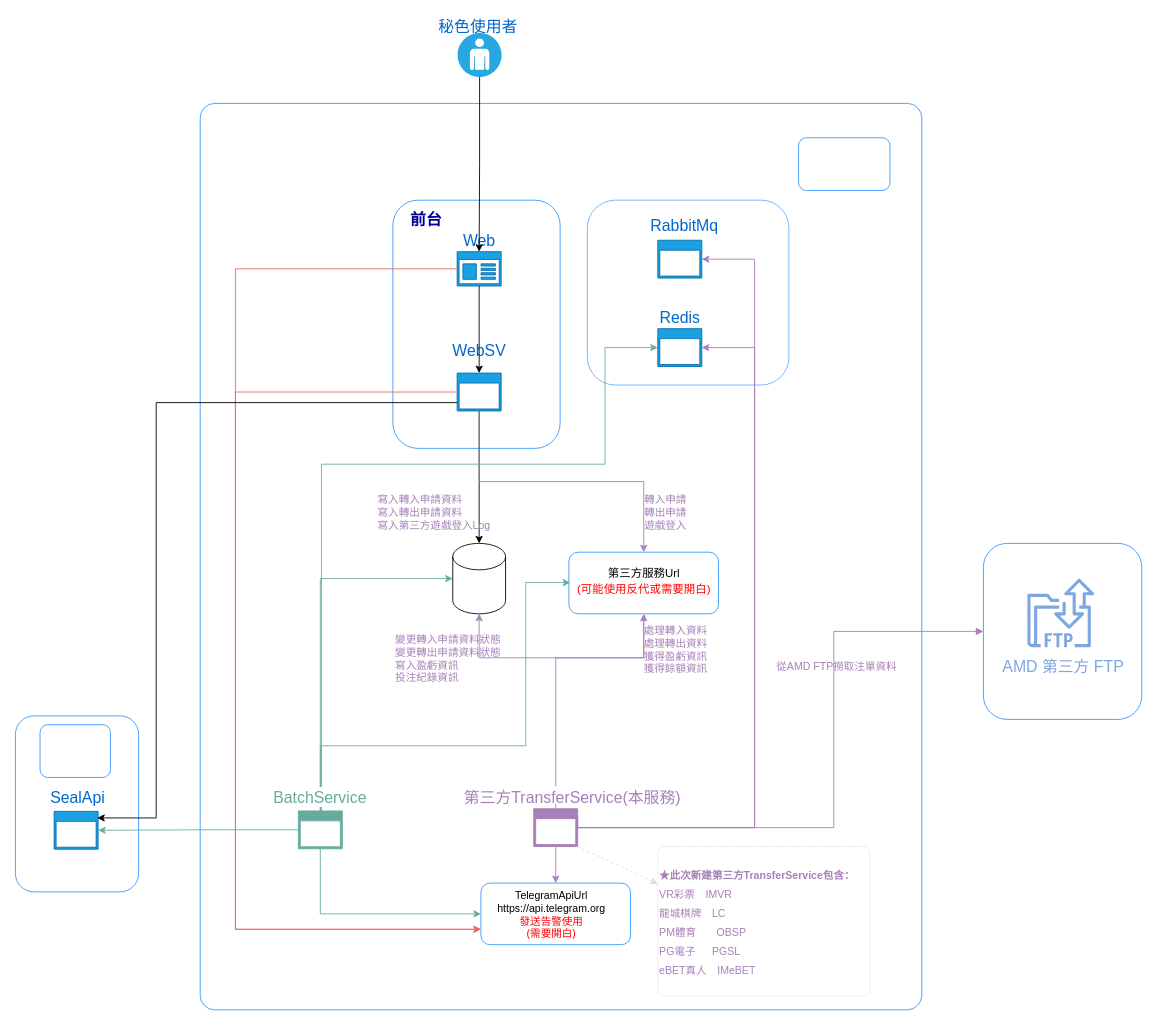
The diagram is 1157 pixels wide and 1025 high, and some of its shapes have lost their labels. Here are the shapes that lost their labels. From the top down, the centre of each, then its label:
the point at 844,164: 秘色網域
the point at 479,578: MS_Lottery InloDb
the point at 74,750: Seal
